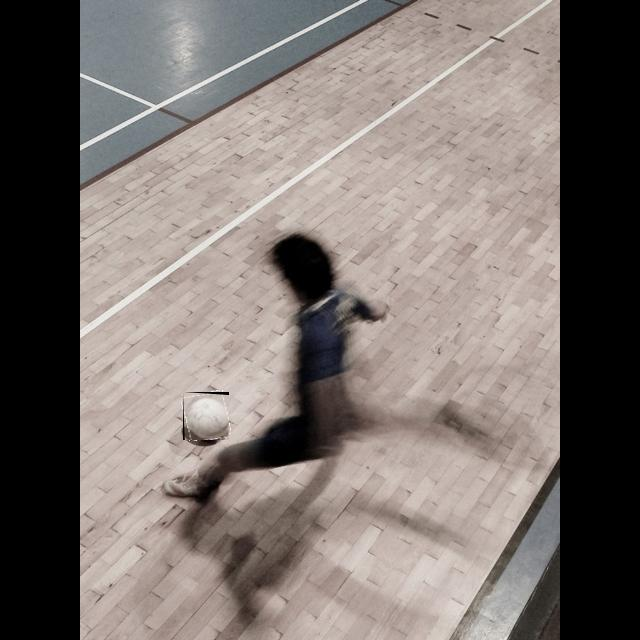Football: (183, 392, 229, 440)
